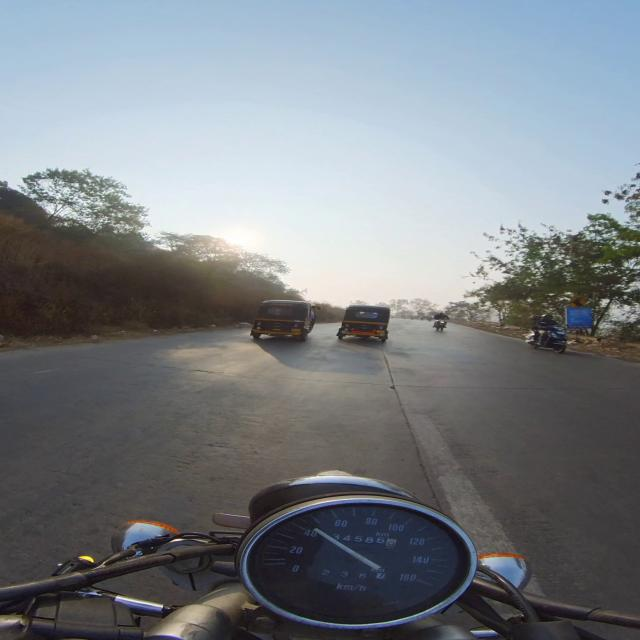motorcycle: (0, 472, 639, 639), (528, 326, 567, 353), (434, 320, 446, 331)
